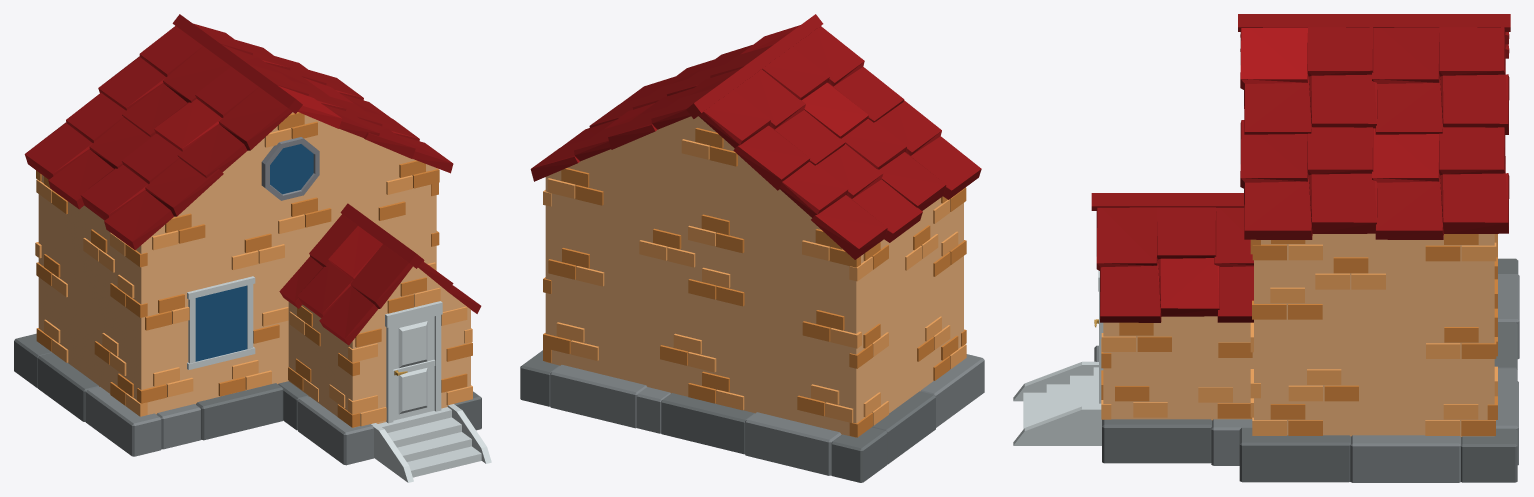
File: SM_House_4.FBX
3 renders of one model, left to right at view 1: azimuth 30°, elevation 25°; view 2: azimuth 150°, elevation 25°; view 3: azimuth 270°, elevation 25°, orthographic. The views are drawn at different scales.
Visible parts, largest first — view 1: SM_House_4; view 2: SM_House_4; view 3: SM_House_4.
Part boxes in pixels (<box>): SM_House_4: <box>14,14,491,482</box>; SM_House_4: <box>520,14,984,482</box>; SM_House_4: <box>1013,14,1519,482</box>.
Size of what is drawn, in the model's own units: 664 by 758 by 619.
